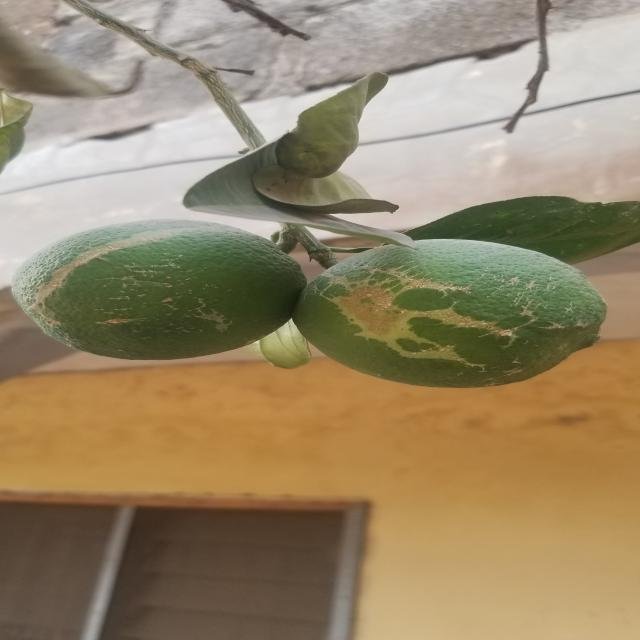Unripe: (304, 240, 617, 390), (13, 218, 294, 364)
